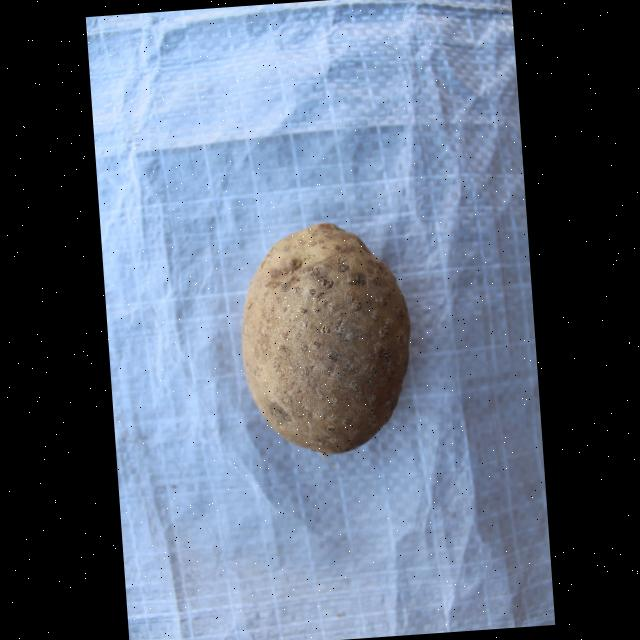Diseased-fungal potato: (228, 216, 422, 458)
